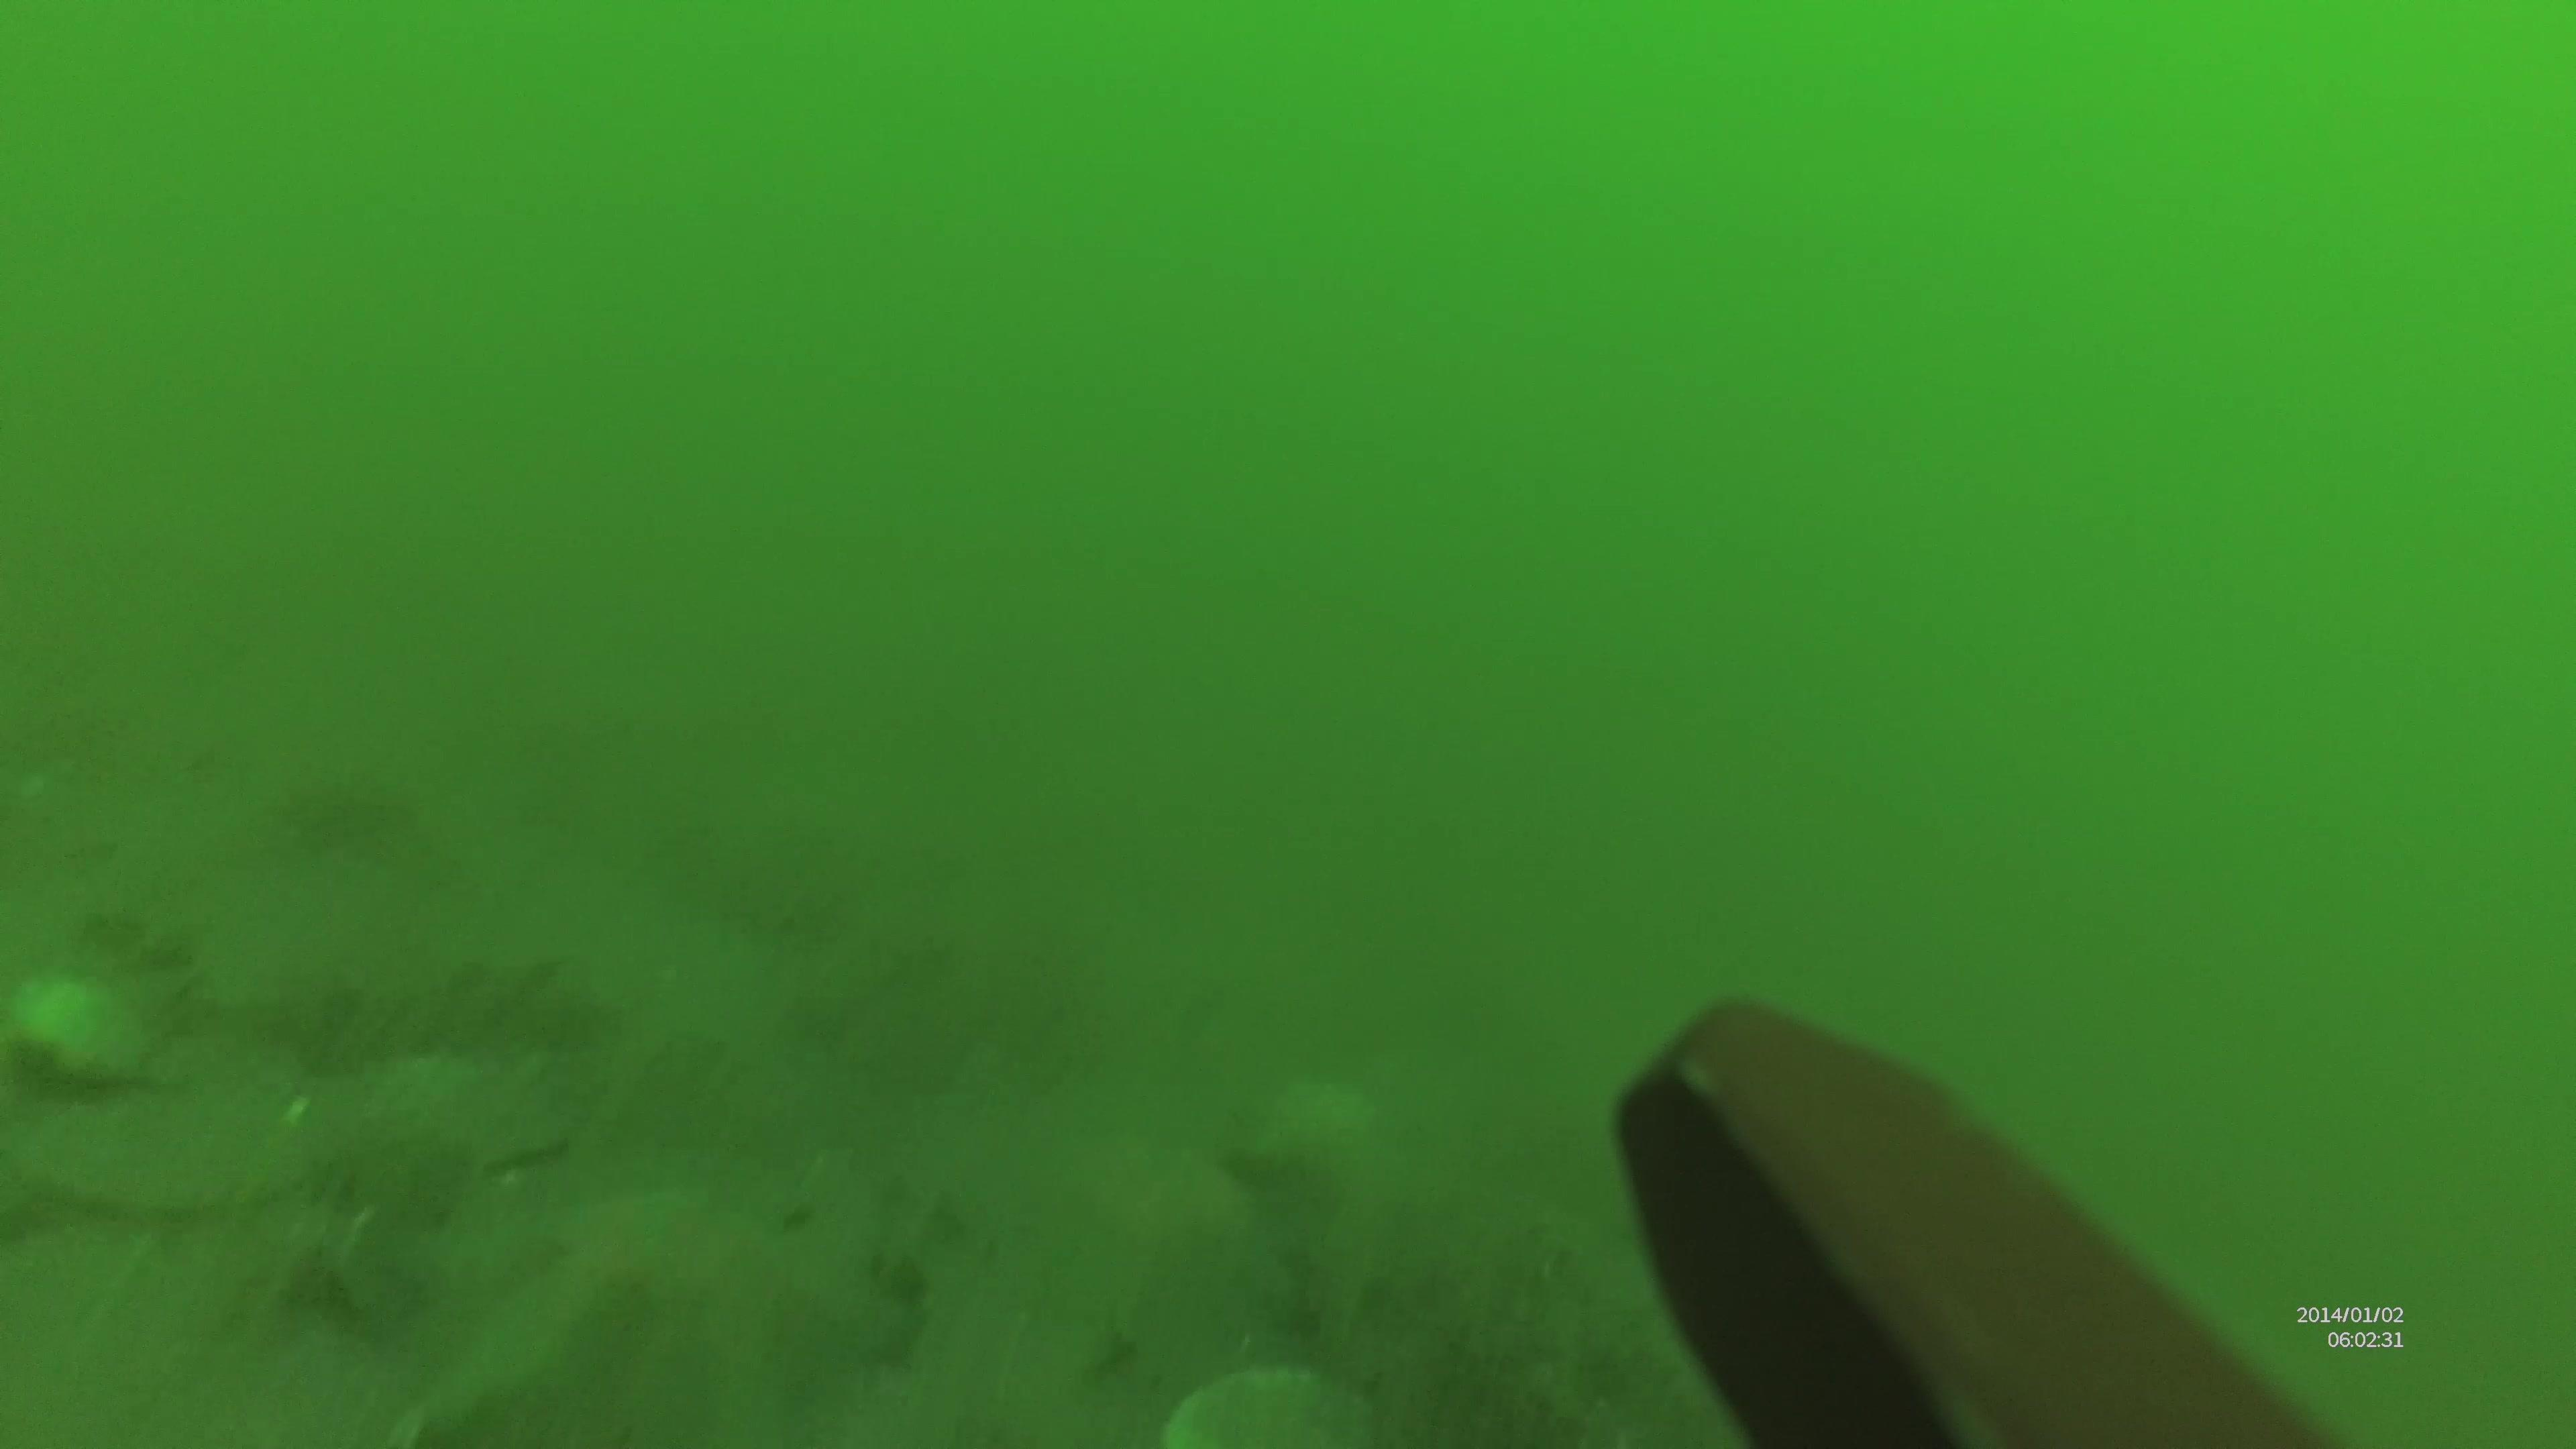starfish: (329, 1177, 941, 1449)
